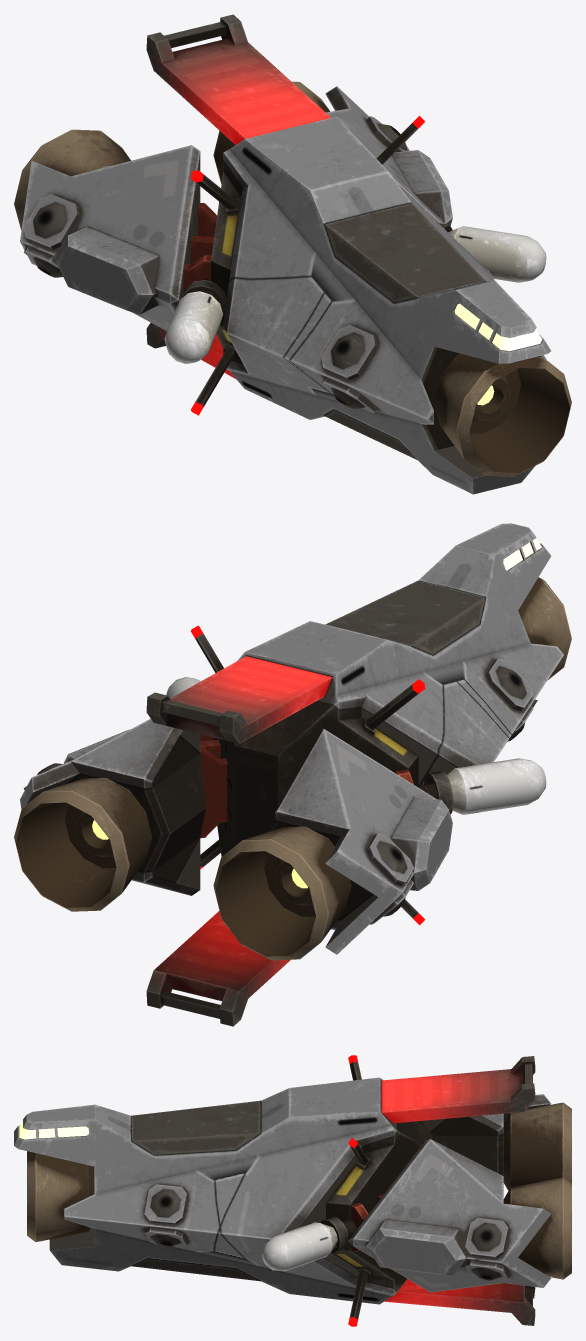
The model's file is rylek-galley.glb.
3 renders of one model, top to bottom at view 1: azimuth 30°, elevation 25°; view 2: azimuth 150°, elevation 25°; view 3: azimuth 270°, elevation 25°, orthographic. The views are drawn at different scales.
Visible parts, largest first — view 1: Pirate Corvette Hull_LOD0, Pirate Corvette Windows_LOD0; view 2: Pirate Corvette Hull_LOD0; view 3: Pirate Corvette Hull_LOD0, Pirate Corvette Windows_LOD0.
Boxes of the visible parts, x1,y1,x2,y2 form: Pirate Corvette Hull_LOD0: [14, 14, 571, 494]; Pirate Corvette Windows_LOD0: [454, 303, 542, 351]; Pirate Corvette Hull_LOD0: [14, 523, 571, 1026]; Pirate Corvette Hull_LOD0: [14, 1056, 571, 1325]; Pirate Corvette Windows_LOD0: [19, 1122, 88, 1139].
Bounding box in the file's own units: 4.72 × 3.64 × 7.74.
Materials: 4 (4 with a texture image).
